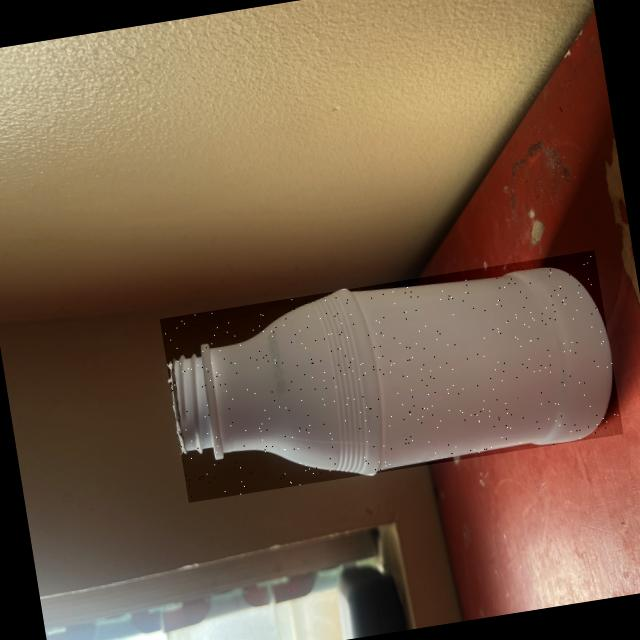HDPE_Bottle: (171, 268, 612, 474)
